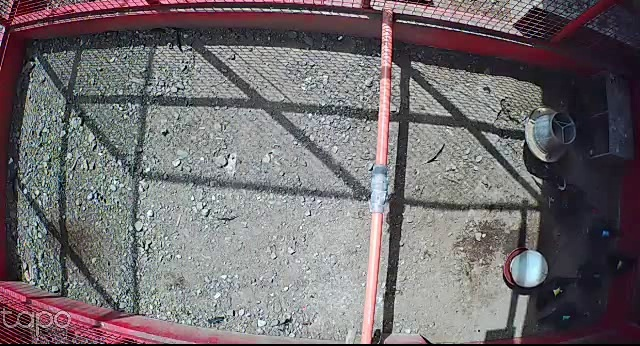Chicken: (534, 273, 579, 314), (531, 303, 591, 333)
Saddle_Color_Blue: (601, 230, 610, 238)
Saddle_Color_Yellow: (554, 286, 561, 295)
